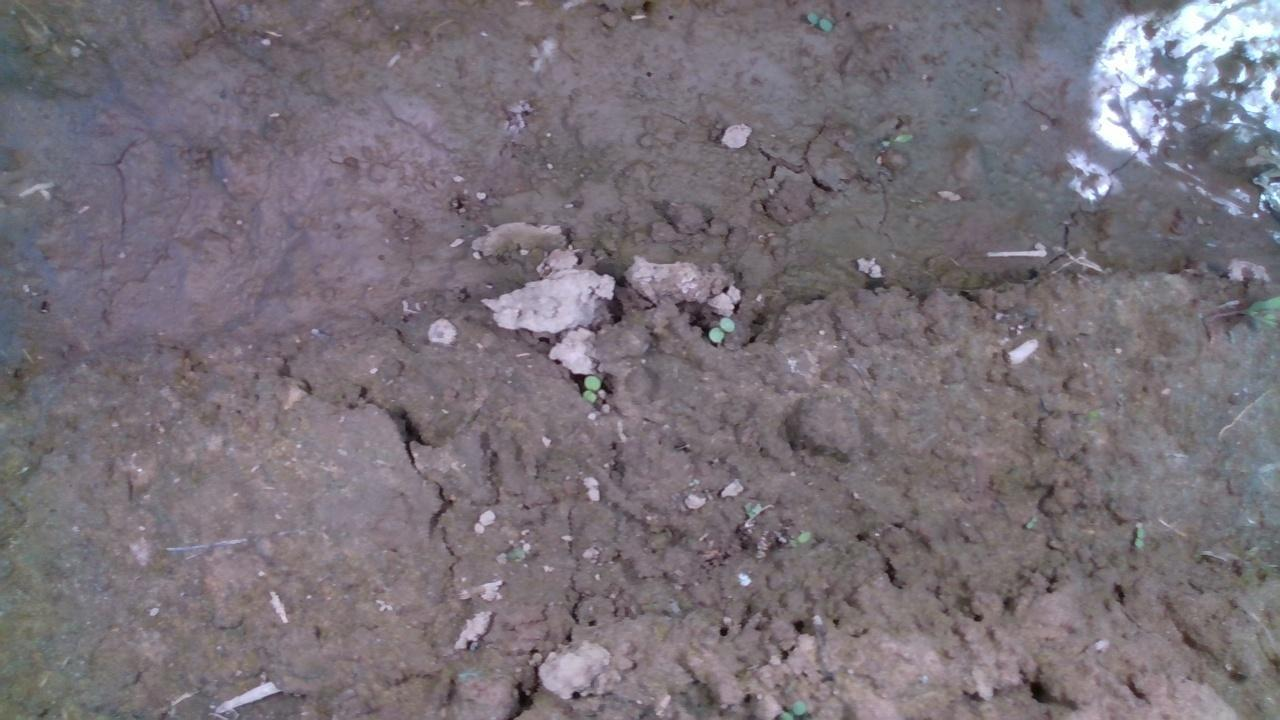weed: (562, 362, 608, 404), (706, 312, 745, 345)
